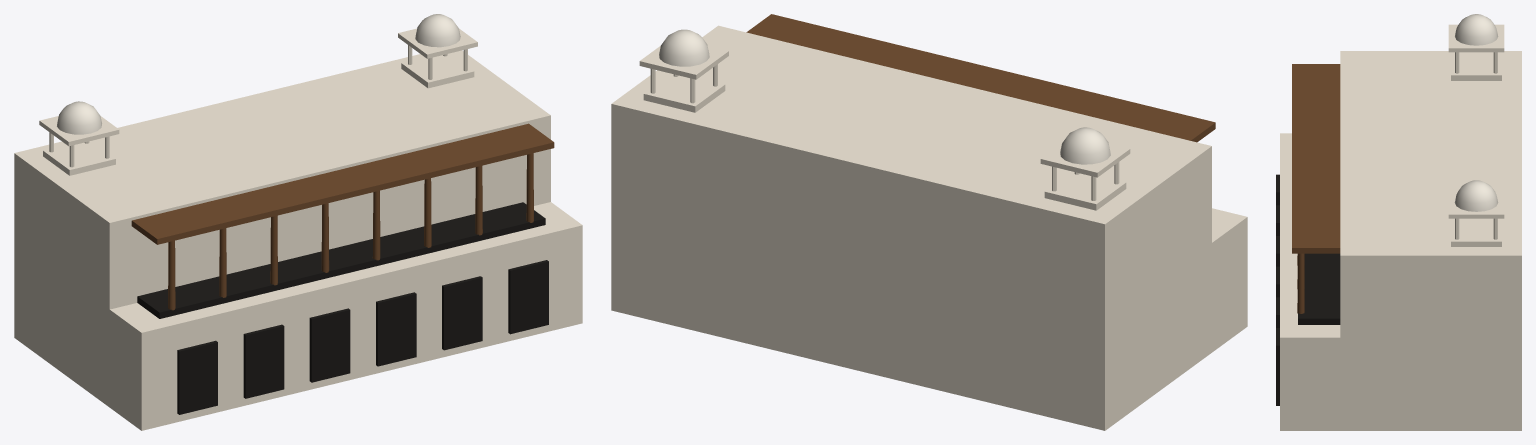
The model's file is barracks.glb.
3 renders of one model, left to right at view 1: azimuth 30°, elevation 25°; view 2: azimuth 150°, elevation 25°; view 3: azimuth 270°, elevation 25°, orthographic. The views are drawn at different scales.
Parts seen in each view (by area): view 1: Barracks; view 2: Barracks; view 3: Barracks.
Boxes of the visible parts, x1,y1,x2,y2 form: Barracks: (14,14,582,430); Barracks: (611,14,1247,430); Barracks: (1276,14,1521,430).
Bounding box in the file's own units: 16 × 8.38 × 8.12.
